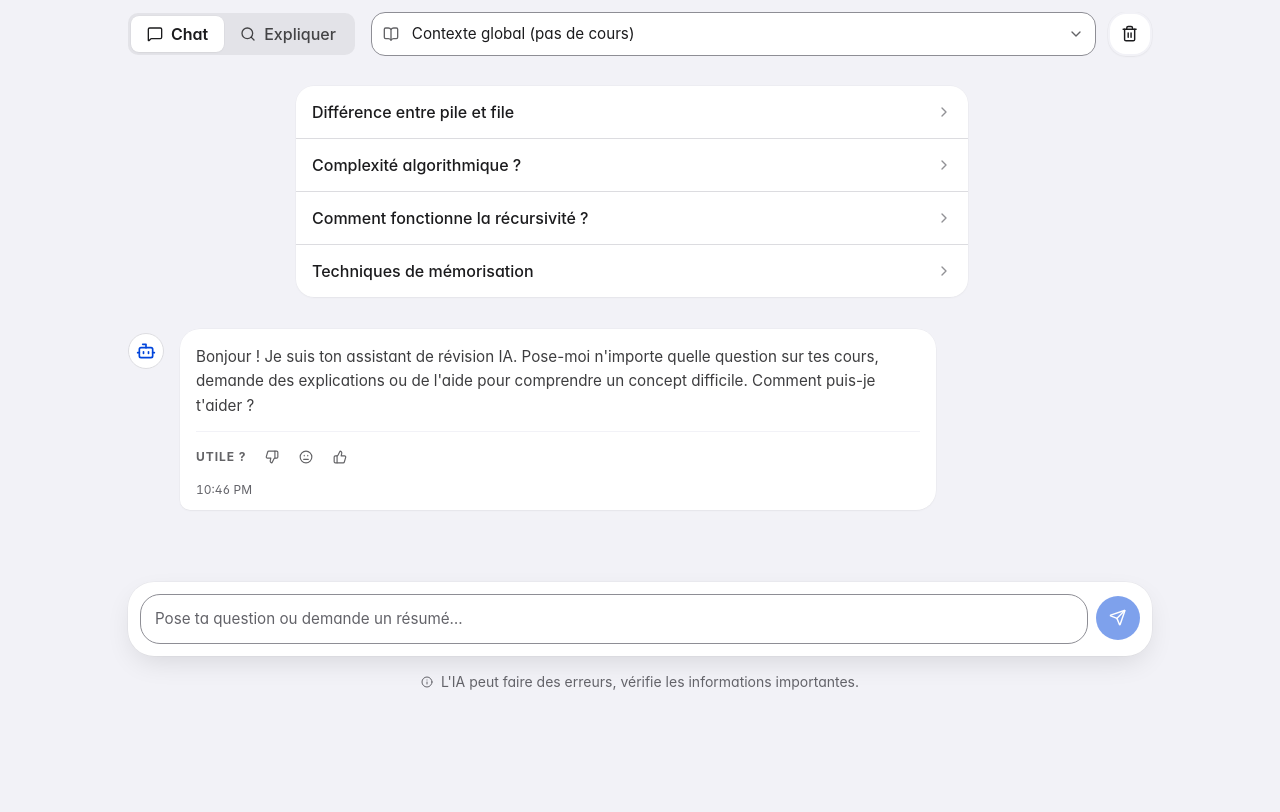
it: Assistant IA › effacer la conversation après confirmation
(page scrolled)
Type "Bonjour" into the text box with placeholder "Pose ta question ou demande un résumé…" at [614, 619], box [140,594,1088,644]
Then press Enter
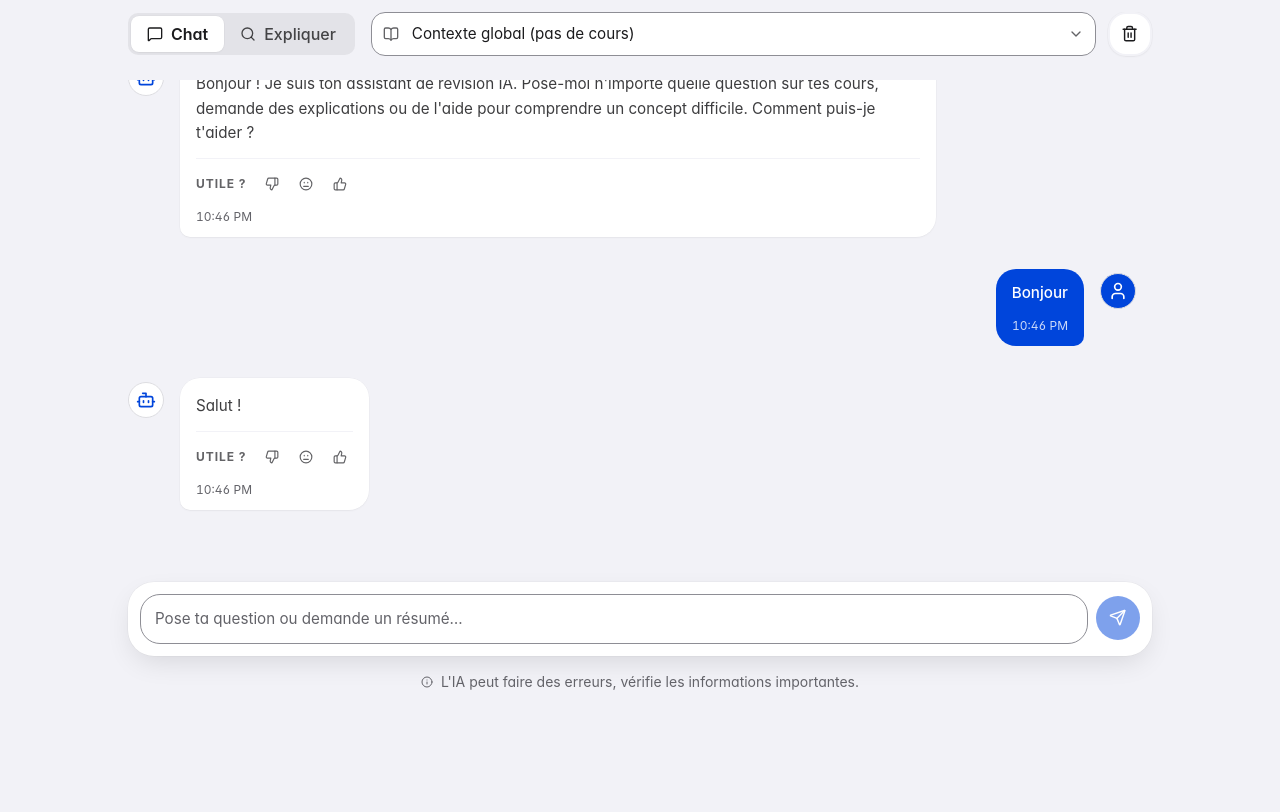
Click the button named "effacer la conversation" at [1130, 34], box [1108,12,1152,56]
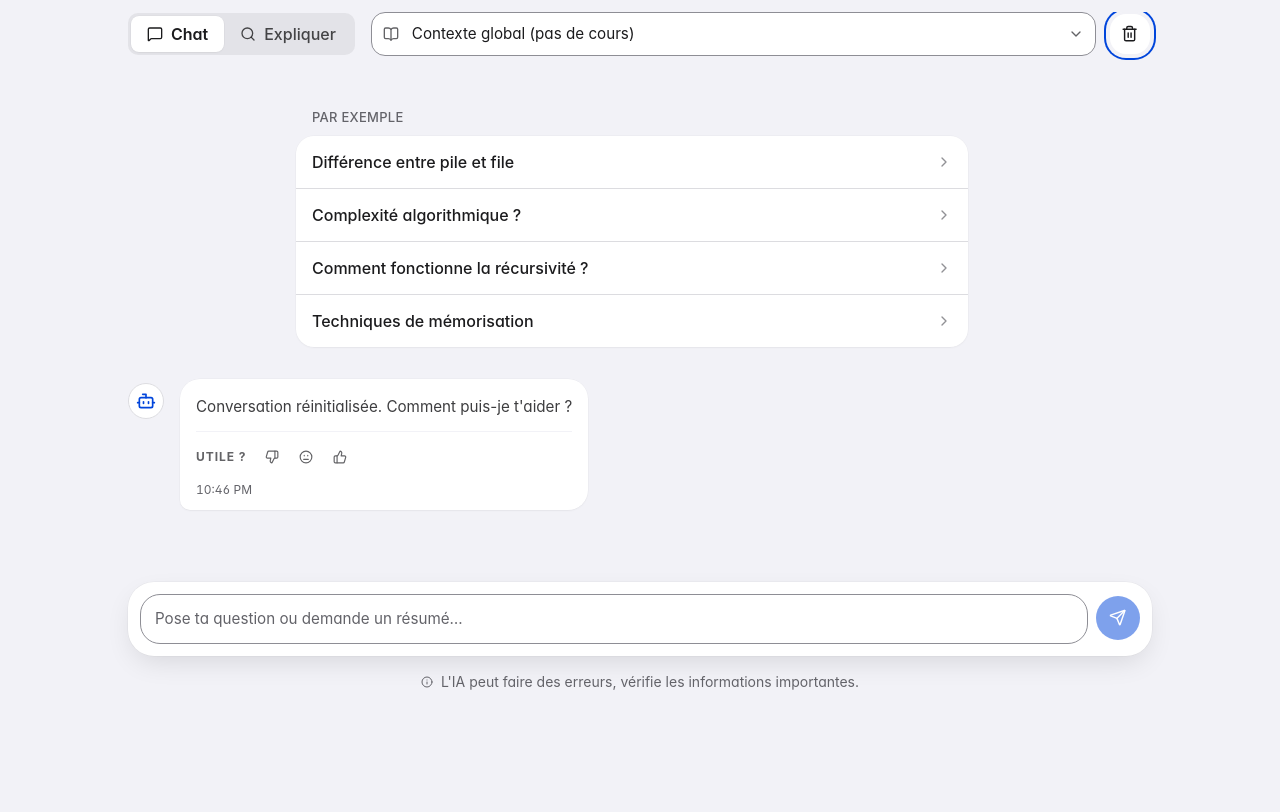
Expected: the text "Bonjour" is gone
Expected: the text "Conversation réinitialisée. Comment puis-je t'aider ?" is shown, [196,394,572,419]
